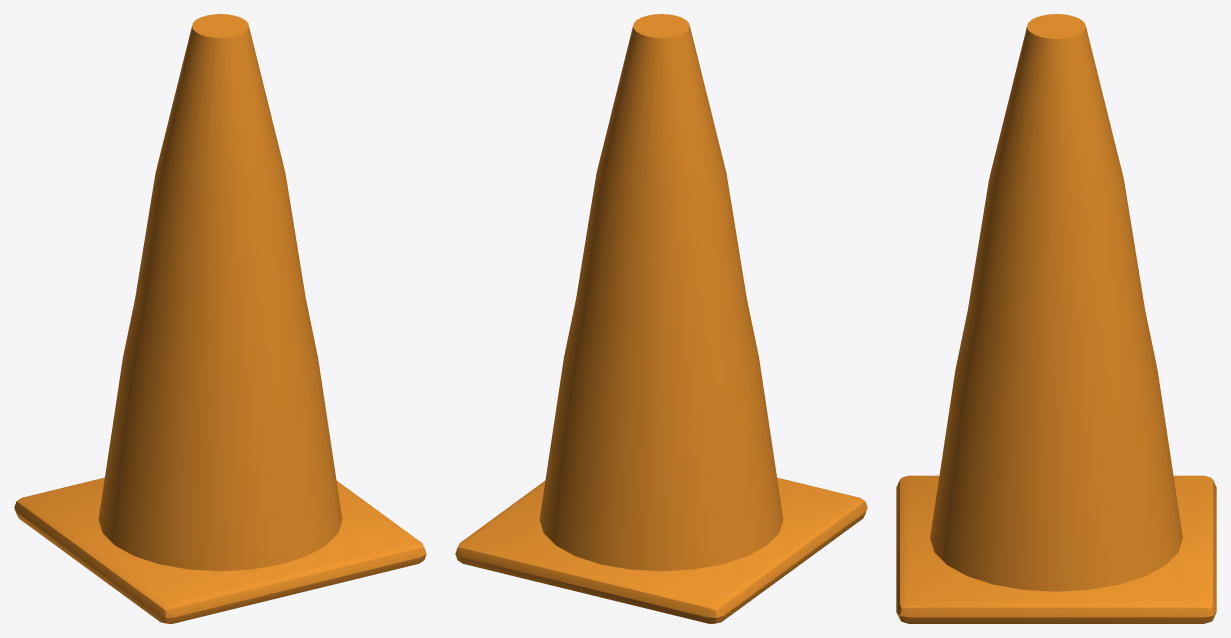
3 views of the same model, side by side, from view 1: azimuth 30°, elevation 25°; view 2: azimuth 150°, elevation 25°; view 3: azimuth 270°, elevation 25° (orthographic). The views are drawn at different scales.
Visible parts, largest first — view 1: SM_Cone; view 2: SM_Cone; view 3: SM_Cone.
Part boxes in pixels (box(x1,y1,x2,y2)): SM_Cone: box(14, 14, 426, 623); SM_Cone: box(455, 14, 867, 623); SM_Cone: box(896, 14, 1216, 623).
Size of the model in its own units: 38 by 70 by 38.
